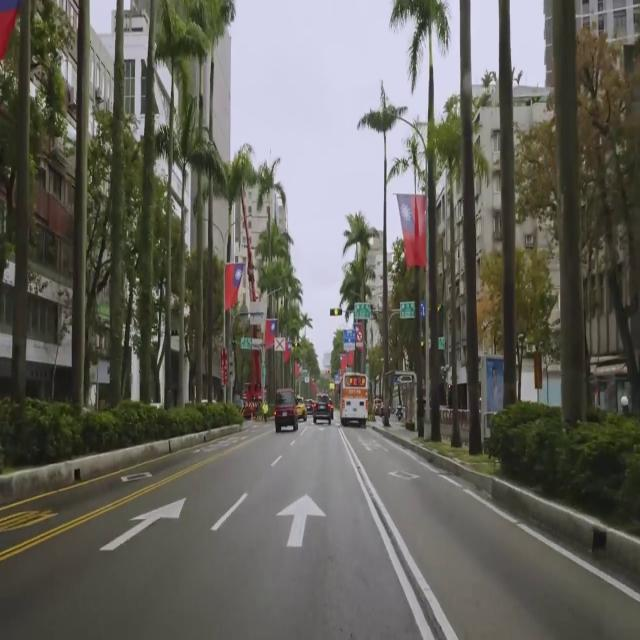yellow light: (330, 307, 342, 318)
